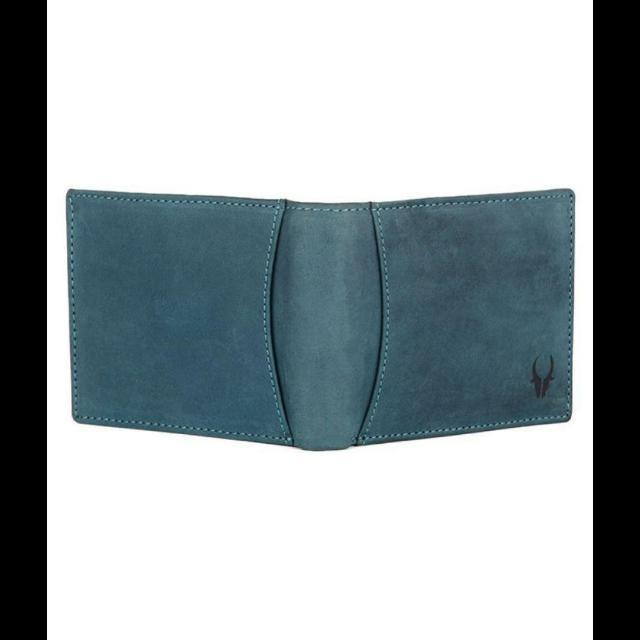wallet: (59, 178, 574, 450)
